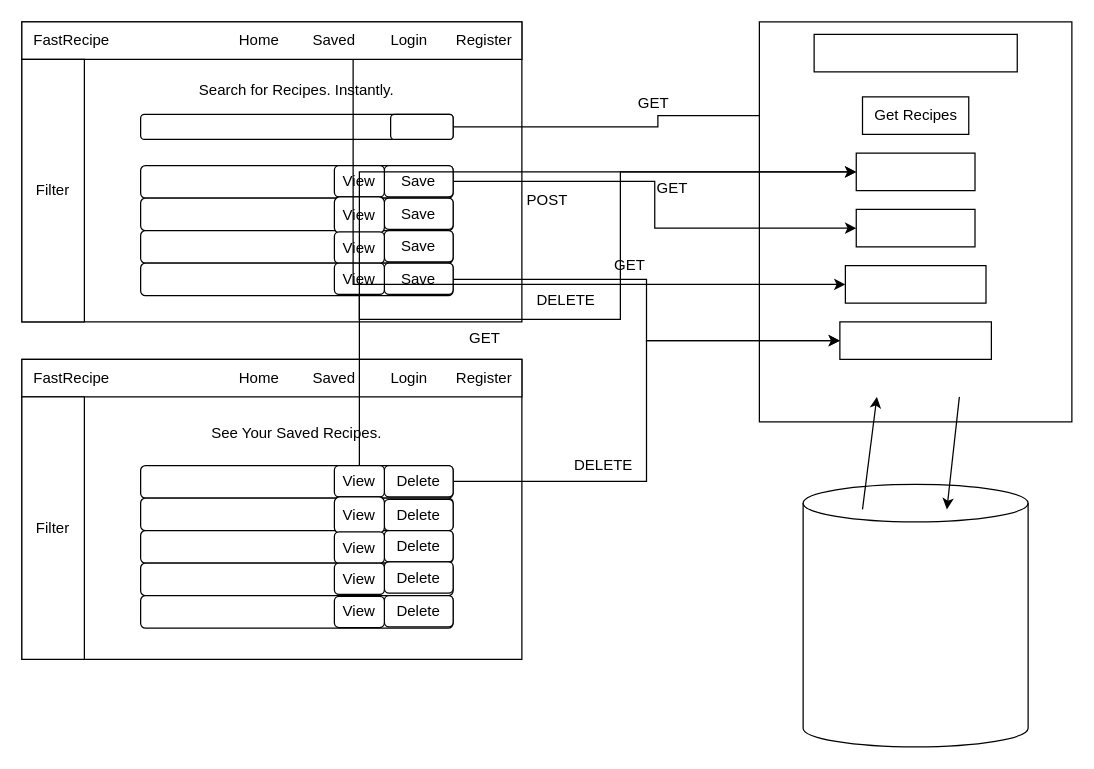
Image size: 1094x769. Some labels were removed from this diagram. The shapes that lost their labels are listed below. From the top down, each one's centre as x and y in pixels, then its label:
point 915,52: Server
point 421,126: Search
point 915,171: Get One Recipe
point 915,227: Save Recipe
point 915,283: Get Saved Recipes
point 915,340: Delete Saved Recipe
point 915,615: Database (PostgreSQL)
